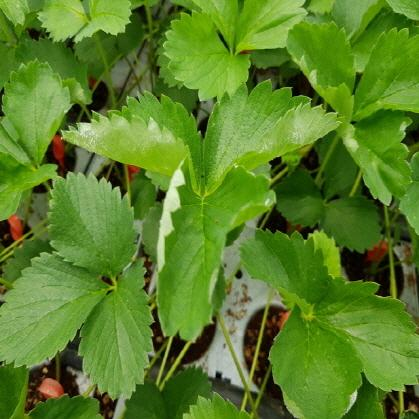Powdery Mildew Leaf: (155, 154, 277, 342), (202, 77, 342, 194), (59, 88, 203, 194), (266, 302, 365, 418), (347, 106, 416, 207)
